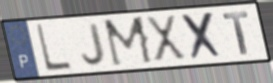J: (80, 22, 107, 67)
L: (34, 23, 74, 74)
M: (101, 15, 156, 69)
T: (221, 10, 250, 56)
X: (179, 10, 225, 62), (144, 14, 189, 63)
